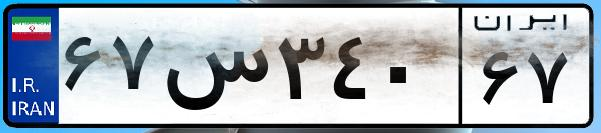0: (385, 28, 445, 110)
3: (270, 28, 330, 110)
4: (330, 28, 385, 110)
6: (57, 26, 110, 100), (475, 38, 525, 113)
7: (525, 38, 570, 115), (110, 28, 158, 98)
س: (158, 20, 270, 120)
